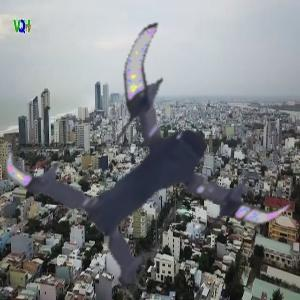drone: (32, 32, 297, 297)
